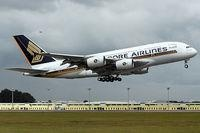airplane: (5, 35, 197, 83)
